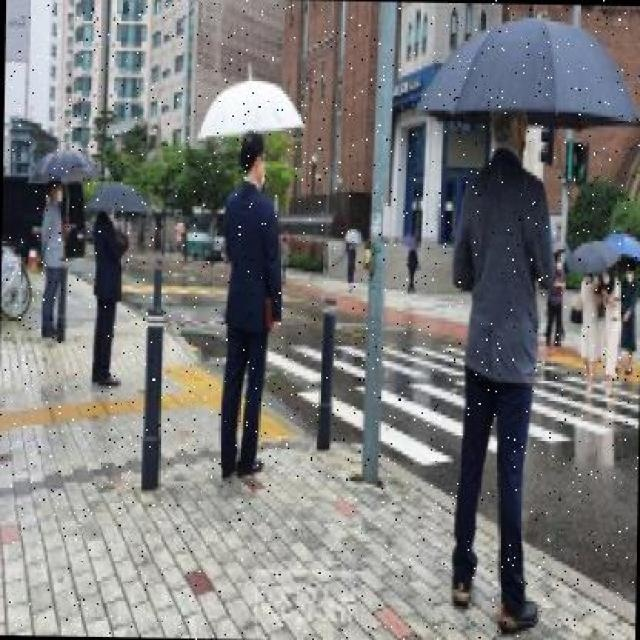obstacle: (448, 107, 552, 633), (217, 131, 286, 477), (90, 204, 132, 384), (38, 178, 71, 339), (596, 268, 622, 402), (576, 268, 602, 401), (618, 263, 638, 380)
